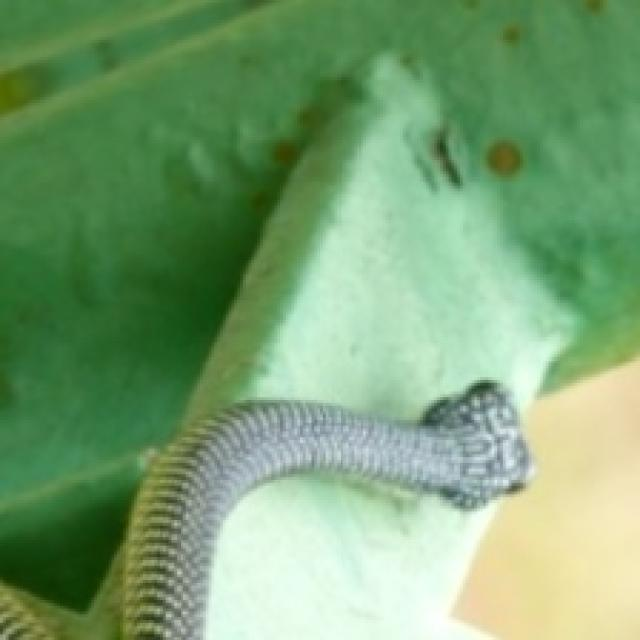paradise tree snake: (0, 380, 529, 637)
